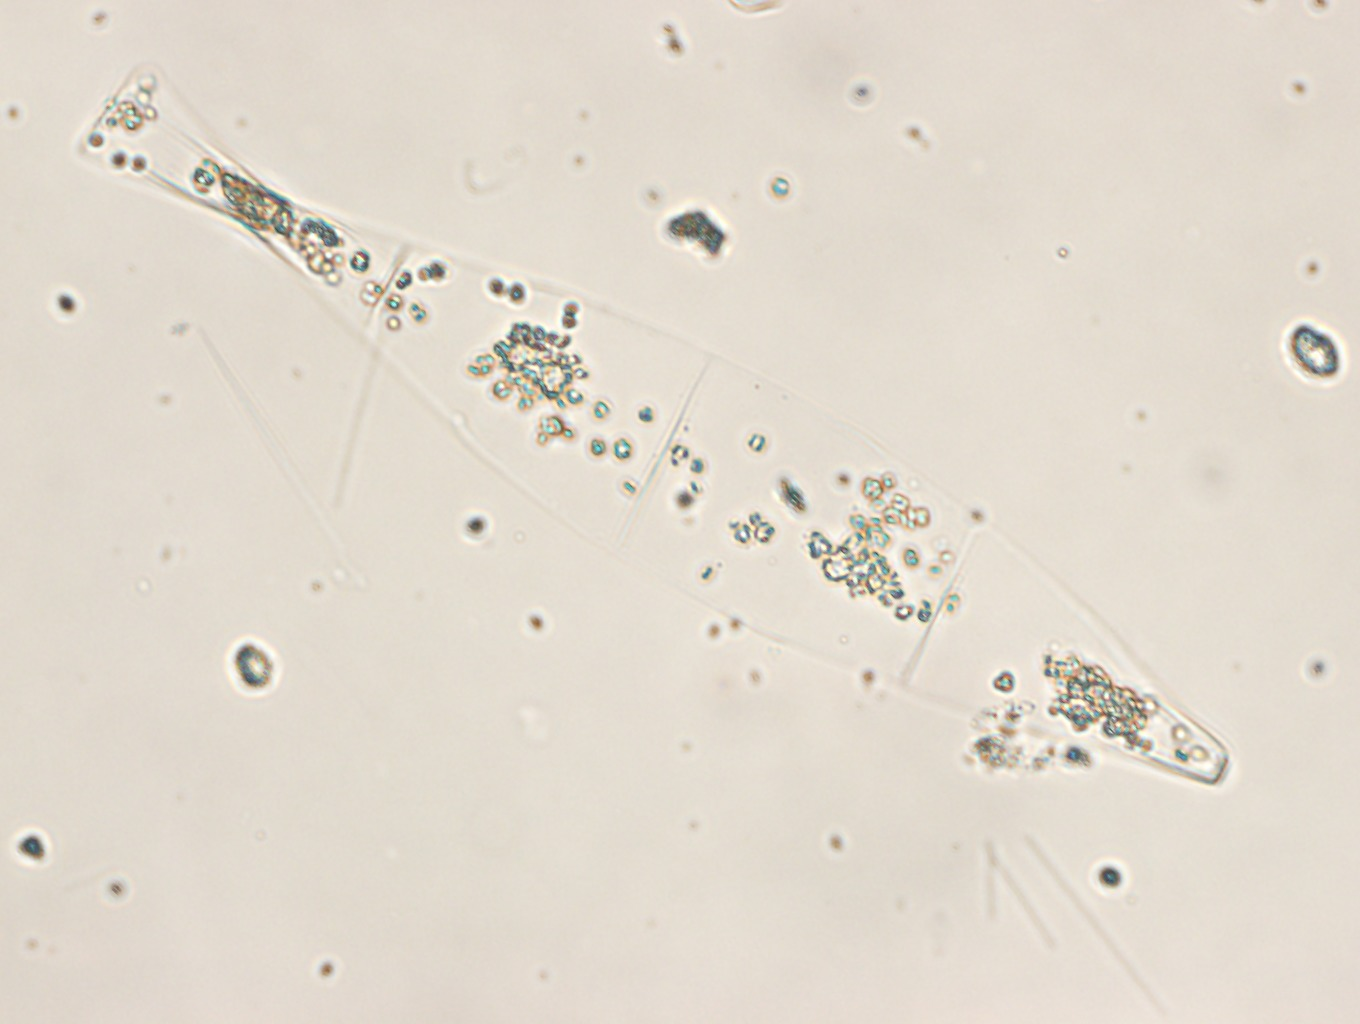helicotheca: (74, 61, 1228, 794)
